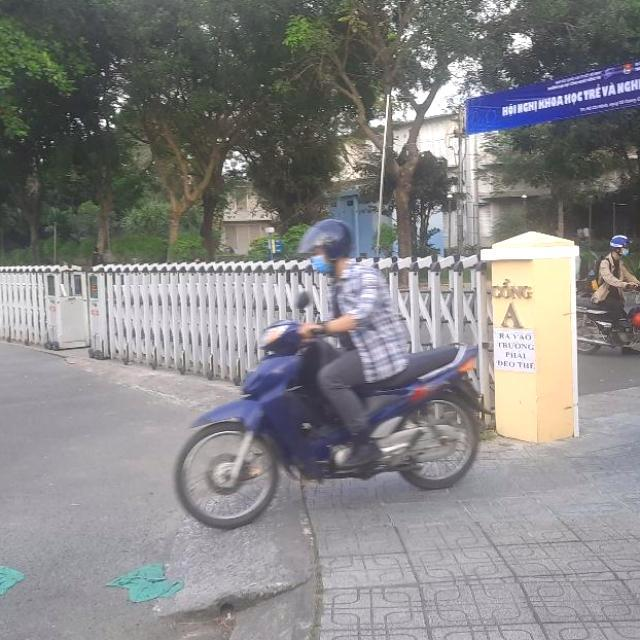Helmet: (292, 212, 360, 280)
